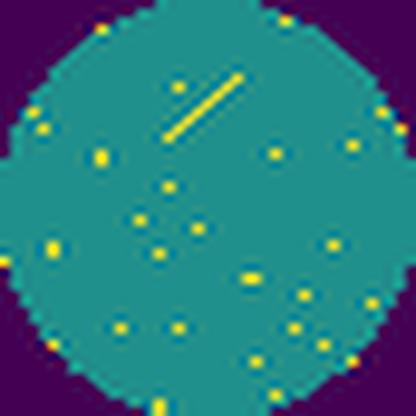Scratch: (152, 67, 254, 153)
